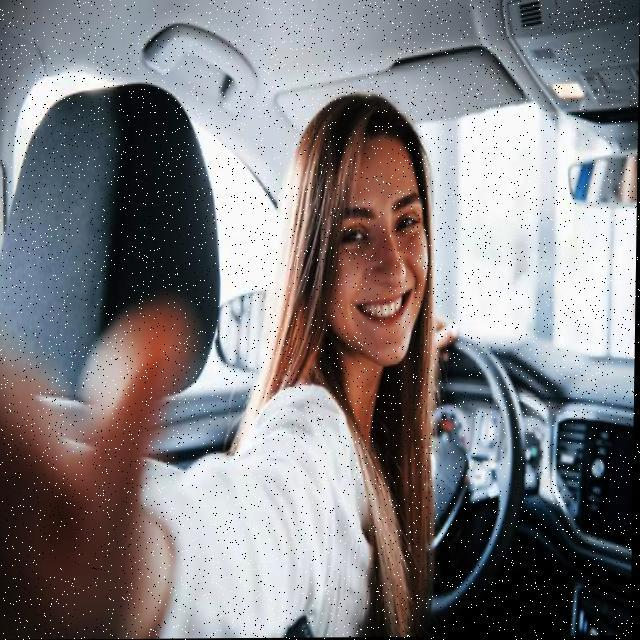noSeatbelt: (196, 338, 441, 638)
